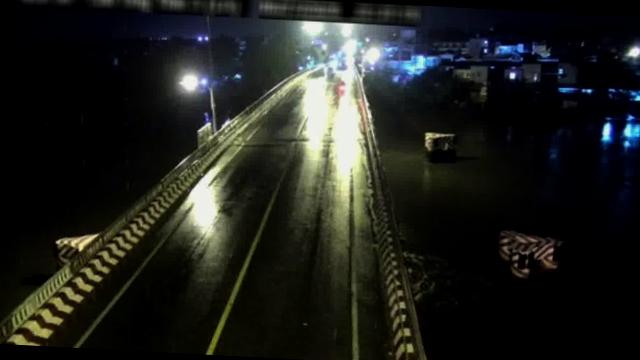Bike: (338, 76, 344, 92)
